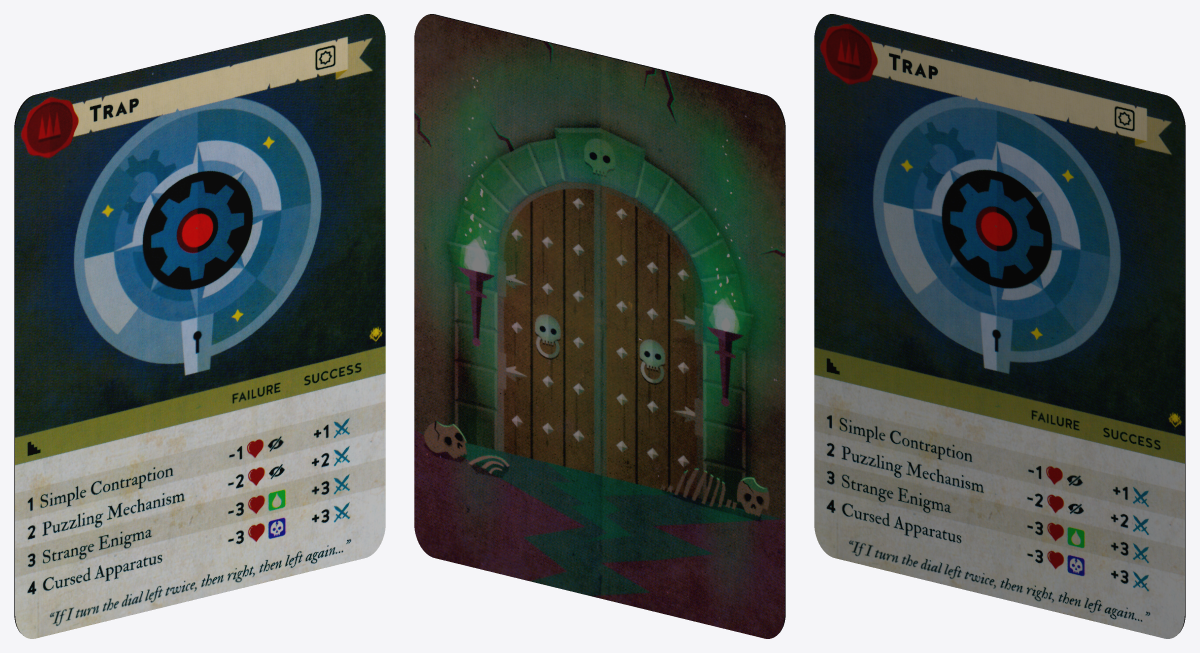
File: Trap_Apparatus.fbx
3 renders of one model, left to right at view 1: azimuth 30°, elevation 25°; view 2: azimuth 150°, elevation 25°; view 3: azimuth 330°, elevation 25°, orthographic.
Parts seen in each view (by area): view 1: Cube; view 2: Cube; view 3: Cube.
Boxes of the visible parts, x1,y1,x2,y2 form: Cube: (14,14,385,638); Cube: (414,14,785,638); Cube: (814,14,1185,638).
Bounding box in the file's own units: 500 × 700 × 2.
